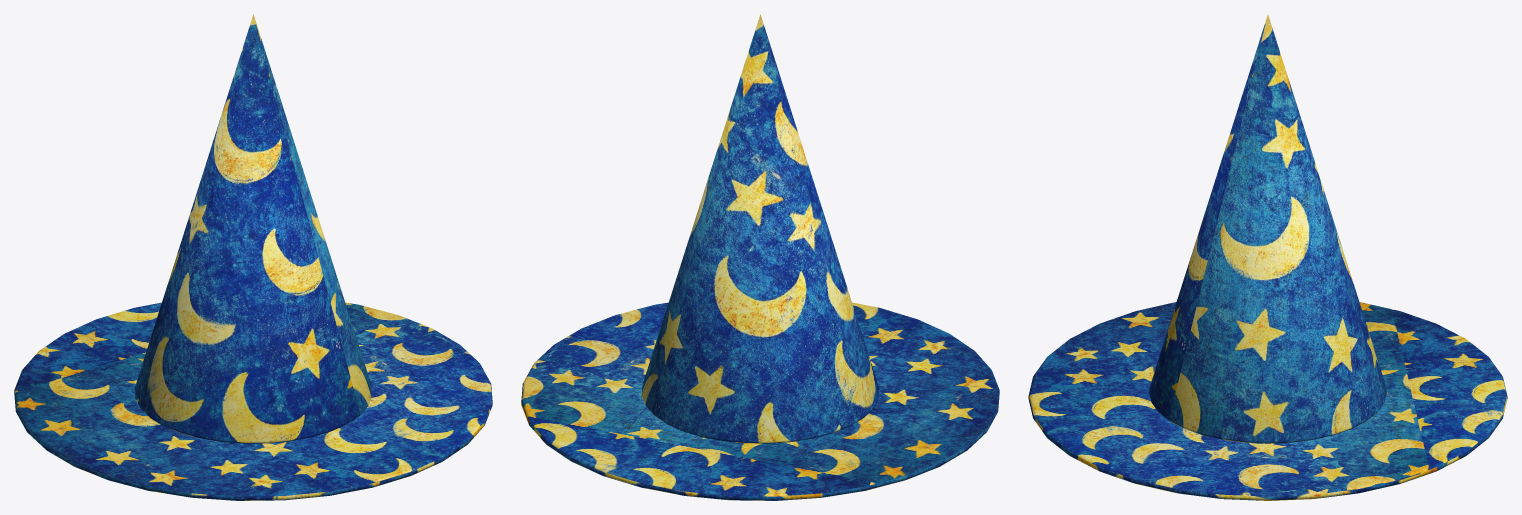
The model's file is cappello mago.fbx.
3 views of the same model, side by side, from view 1: azimuth 30°, elevation 25°; view 2: azimuth 150°, elevation 25°; view 3: azimuth 270°, elevation 25° (orthographic).
Parts seen in each view (by area): view 1: Cone; view 2: Cone; view 3: Cone.
Part boxes in pixels (<box>): Cone: <box>14,14,492,500</box>; Cone: <box>521,14,999,500</box>; Cone: <box>1028,15,1507,500</box>.
Bounding box in the file's own units: 400 × 356 × 400.
Materials: 1 (1 with a texture image).
